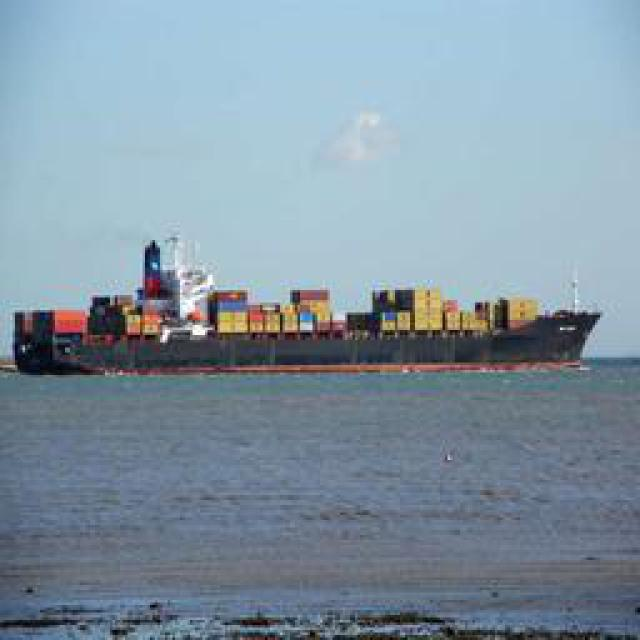Ship: (12, 254, 600, 379)
